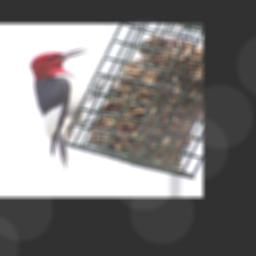Woodpecker: (28, 48, 103, 168)
